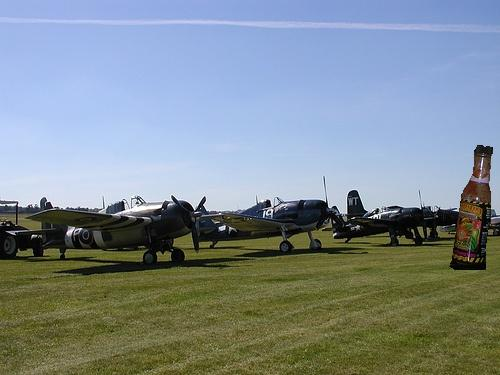tampered: (450, 146, 493, 270)
